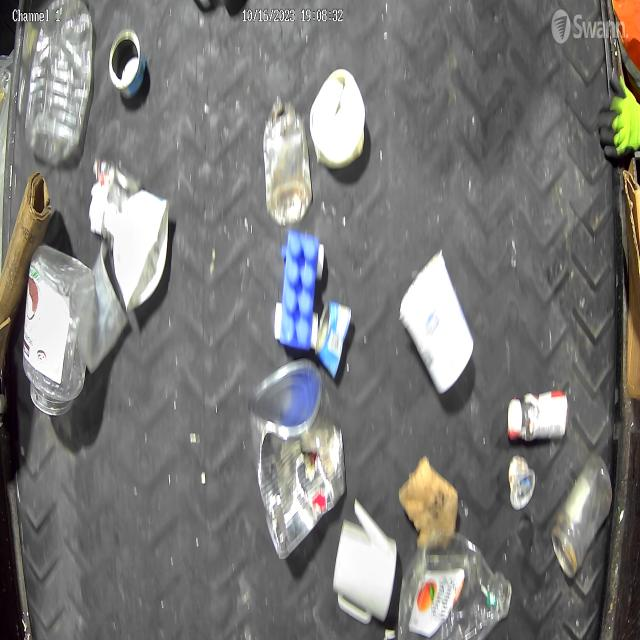can: (245, 354, 347, 566), (316, 296, 354, 375), (108, 28, 147, 98), (102, 167, 137, 243)
plastic_bottle: (396, 530, 513, 640), (28, 0, 96, 166)
